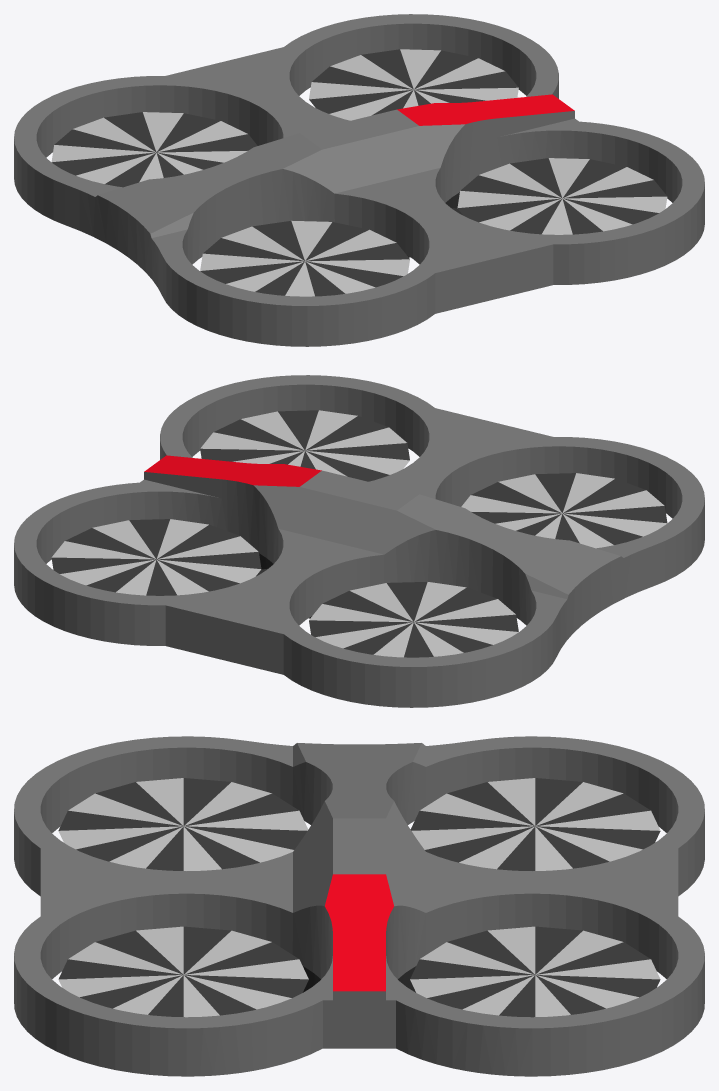
Rendered from quadrotor_4.dae.
The picture shows the model from 3 angles, top to bottom: view 1: azimuth 30°, elevation 25°; view 2: azimuth 150°, elevation 25°; view 3: azimuth 270°, elevation 25°; orthographic projection. The views are drawn at different scales.
Visible parts, largest first — view 1: Cover; view 2: Cover; view 3: Cover.
Part boxes in pixels (box(x1,y1,x2,y2)): Cover: box(14, 14, 704, 346); Cover: box(14, 375, 704, 707); Cover: box(14, 736, 704, 1076).
Size of the model in its own units: 0.52 by 0.5199 by 0.11.
